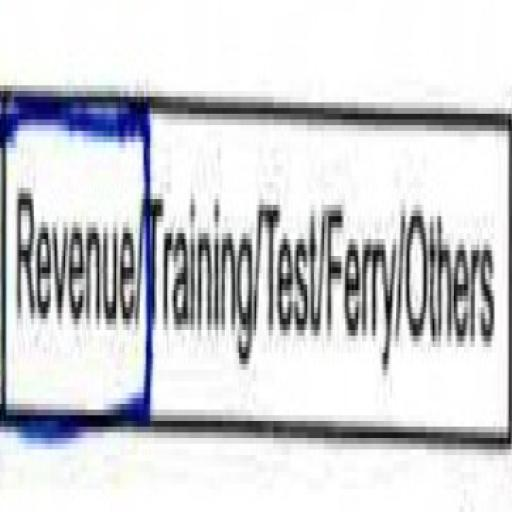check: (0, 14, 144, 512)
